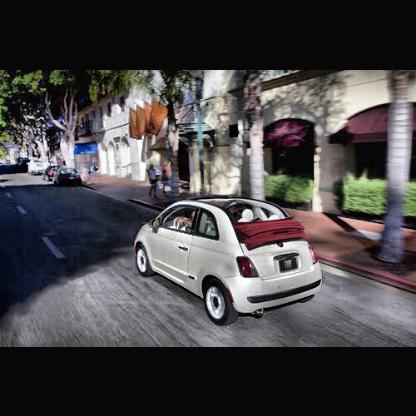FIAT 500 Convertible 2012: (132, 197, 327, 327)
